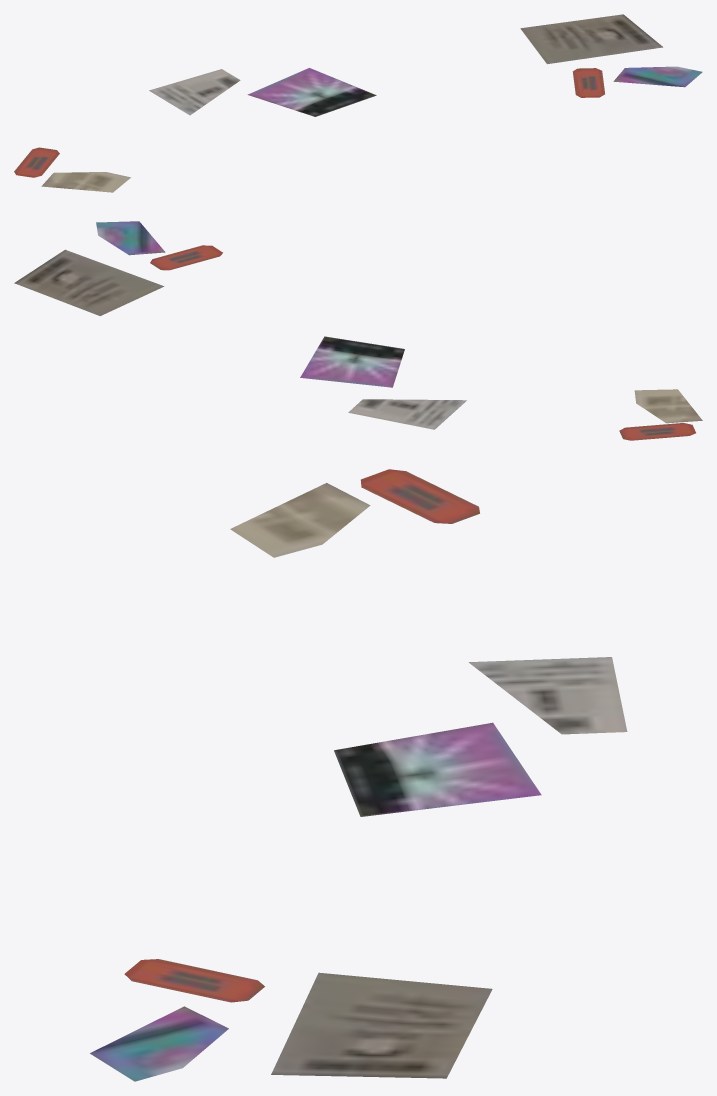
File: SM_Prop_Papers_03.glb
3 renders of one model, top to bottom at view 1: azimuth 30°, elevation 25°; view 2: azimuth 150°, elevation 25°; view 3: azimuth 270°, elevation 25°, orthographic. The views are drawn at different scales.
Parts seen in each view (by area): view 1: SM_Prop_Papers_03; view 2: SM_Prop_Papers_03; view 3: SM_Prop_Papers_03.
Boxes of the visible parts, x1,y1,x2,y2 form: SM_Prop_Papers_03: (14,14,702,192); SM_Prop_Papers_03: (14,221,702,440); SM_Prop_Papers_03: (90,469,627,1081).
Size of the model in its own units: 219 by 0.7354 by 81.87.
Materials: 1 (1 with a texture image).
